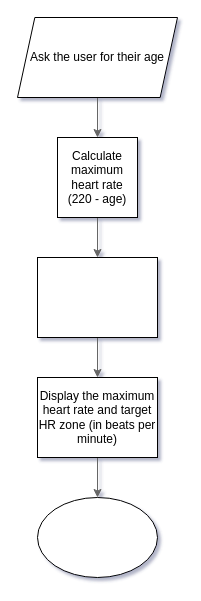
Image size: 201x601. Some labels were removed from this diagram. Here are the shapes that lost their labels. From the top down, the centre of each, then its label:
the point at 97,297: Calculate target heart rate zone (50-85% of max)
the point at 97,537: END
